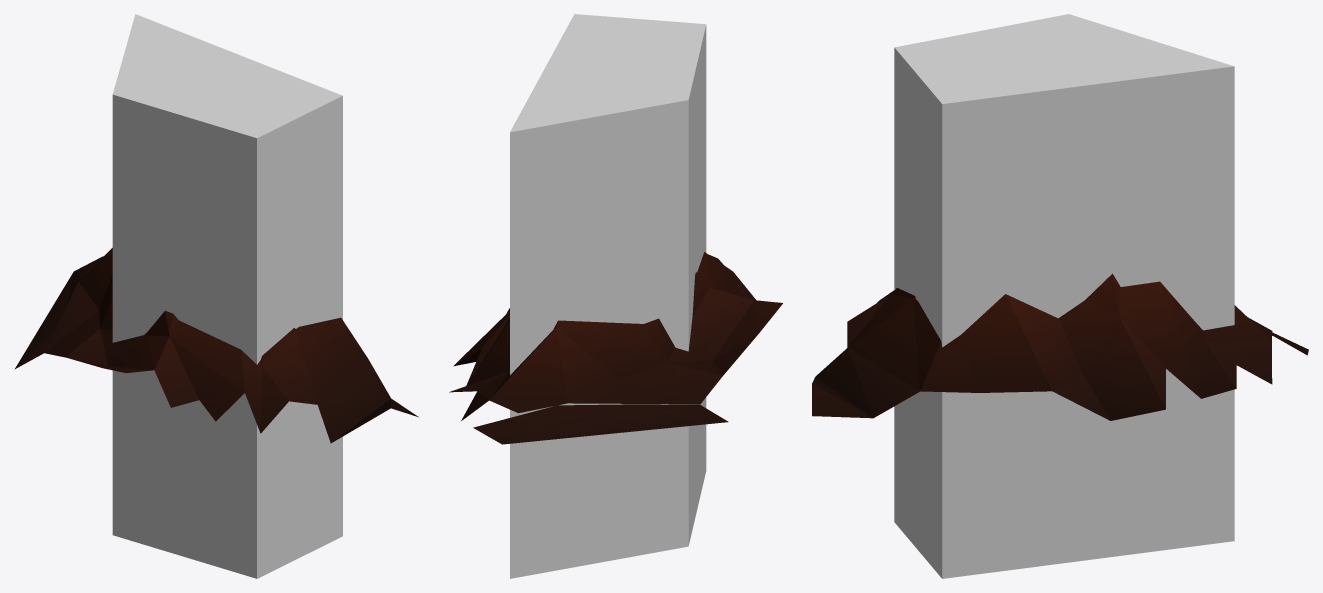
The model's file is island_small_volcanic_Collection_9.fbx.
The picture shows the model from 3 angles, left to right: view 1: azimuth 30°, elevation 25°; view 2: azimuth 150°, elevation 25°; view 3: azimuth 270°, elevation 25°; orthographic projection. The views are drawn at different scales.
Visible parts, largest first — view 1: islandRock_9_col, islandRock_9; view 2: islandRock_9_col, islandRock_9; view 3: islandRock_9_col, islandRock_9.
Part boxes in pixels (x1=…): islandRock_9_col: x1=112, y1=14, x2=342, y2=578; islandRock_9: x1=14, y1=248, x2=418, y2=443; islandRock_9_col: x1=510, y1=14, x2=706, y2=578; islandRock_9: x1=449, y1=252, x2=782, y2=444; islandRock_9_col: x1=894, y1=14, x2=1234, y2=578; islandRock_9: x1=812, y1=273, x2=1308, y2=420.
Bounding box in the file's own units: 2019 × 3308 × 3138.
